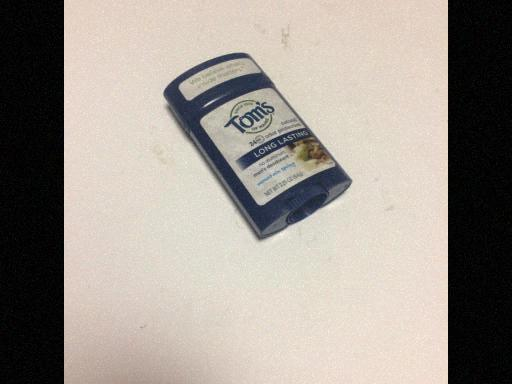trash: (163, 51, 354, 241)
